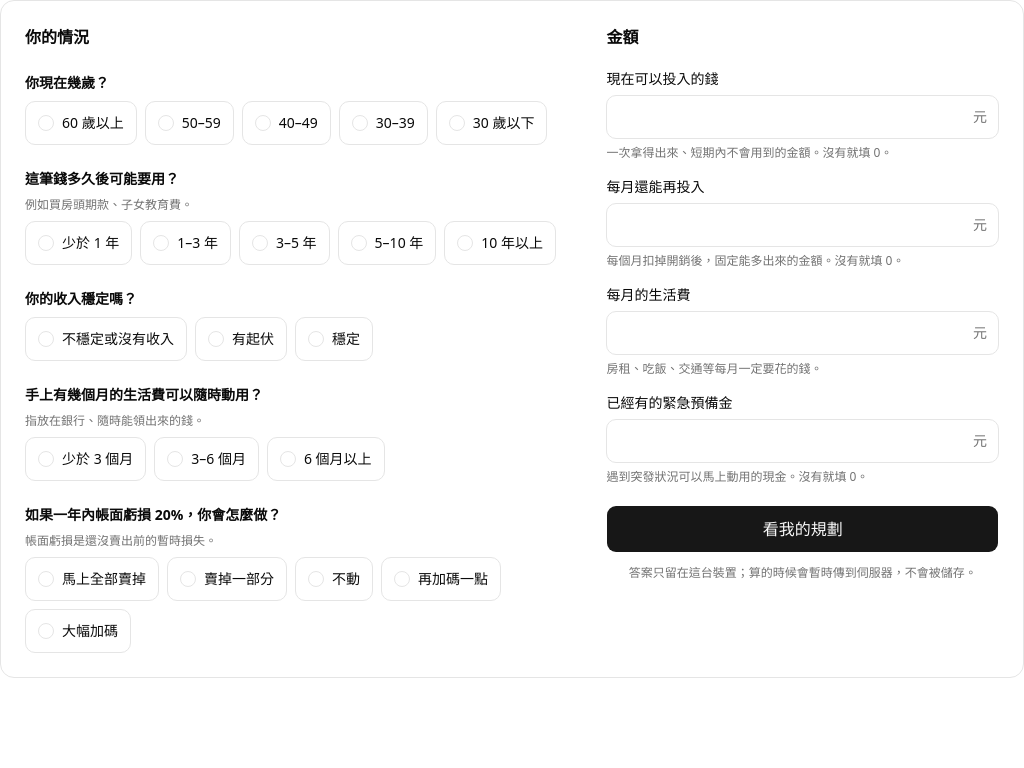
Test: QuestionnaireForm › flags a question left unanswered after a submit attempt
Expected: the text "請選一個答案。" is not shown
Click the button "看我的規劃".
click(803, 529)  # box [606,505,999,553]
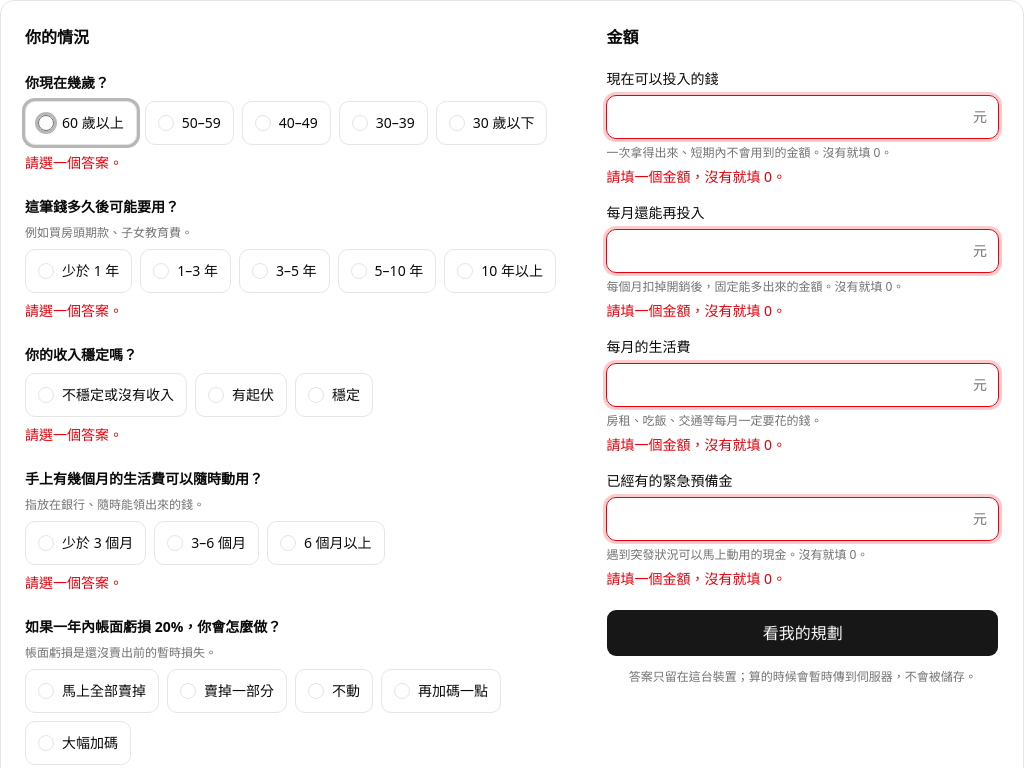
Now the text "請選一個答案。" is shown 5 times
